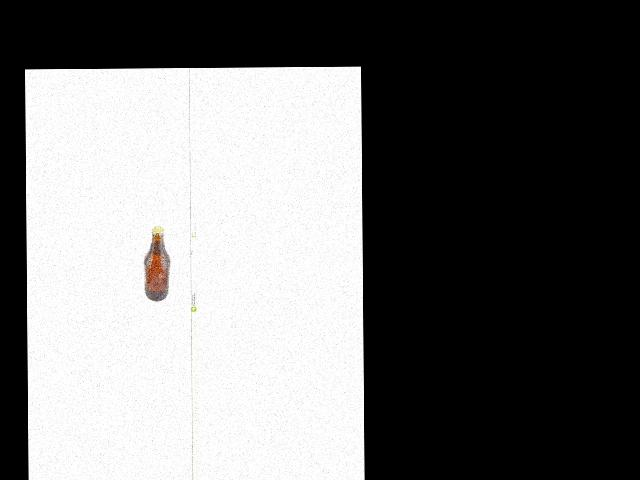beer: (143, 226, 171, 300)
